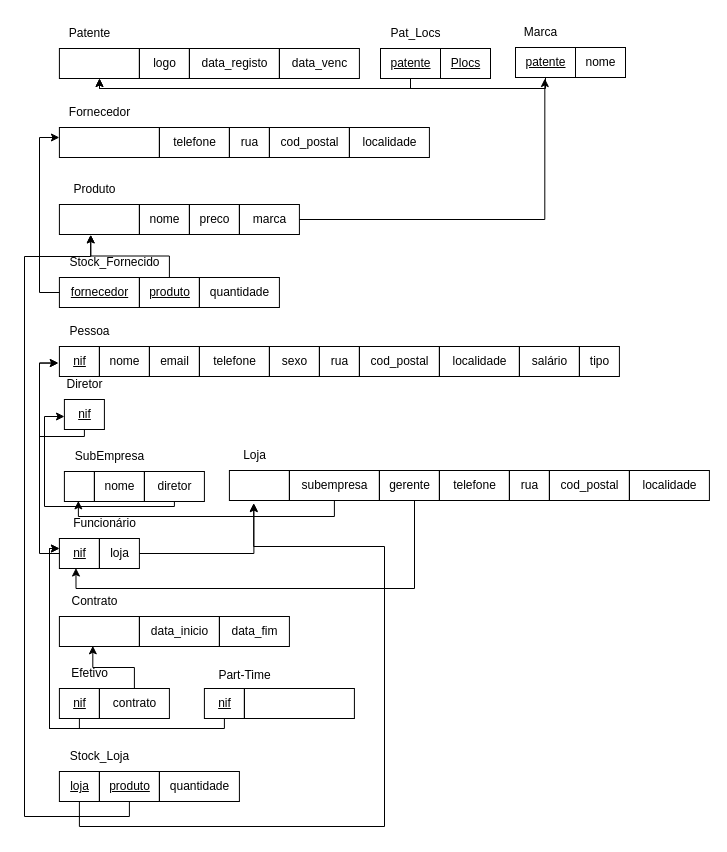
The diagram is 727 pixels wide and 852 high, and some of its shapes have lost their labels. The shapes that lost their labels are listed below. From the top down, each one's centre as x and y in pixels, then its label:
At point (98, 63): "id_patente".
At point (108, 142): "id_fornecedor".
At point (98, 219): "id_produto".
At point (78, 486): "id".
At point (258, 485): "id_loja".
At point (98, 631): "id_contrato".
At point (298, 703): "horas_semanais".
